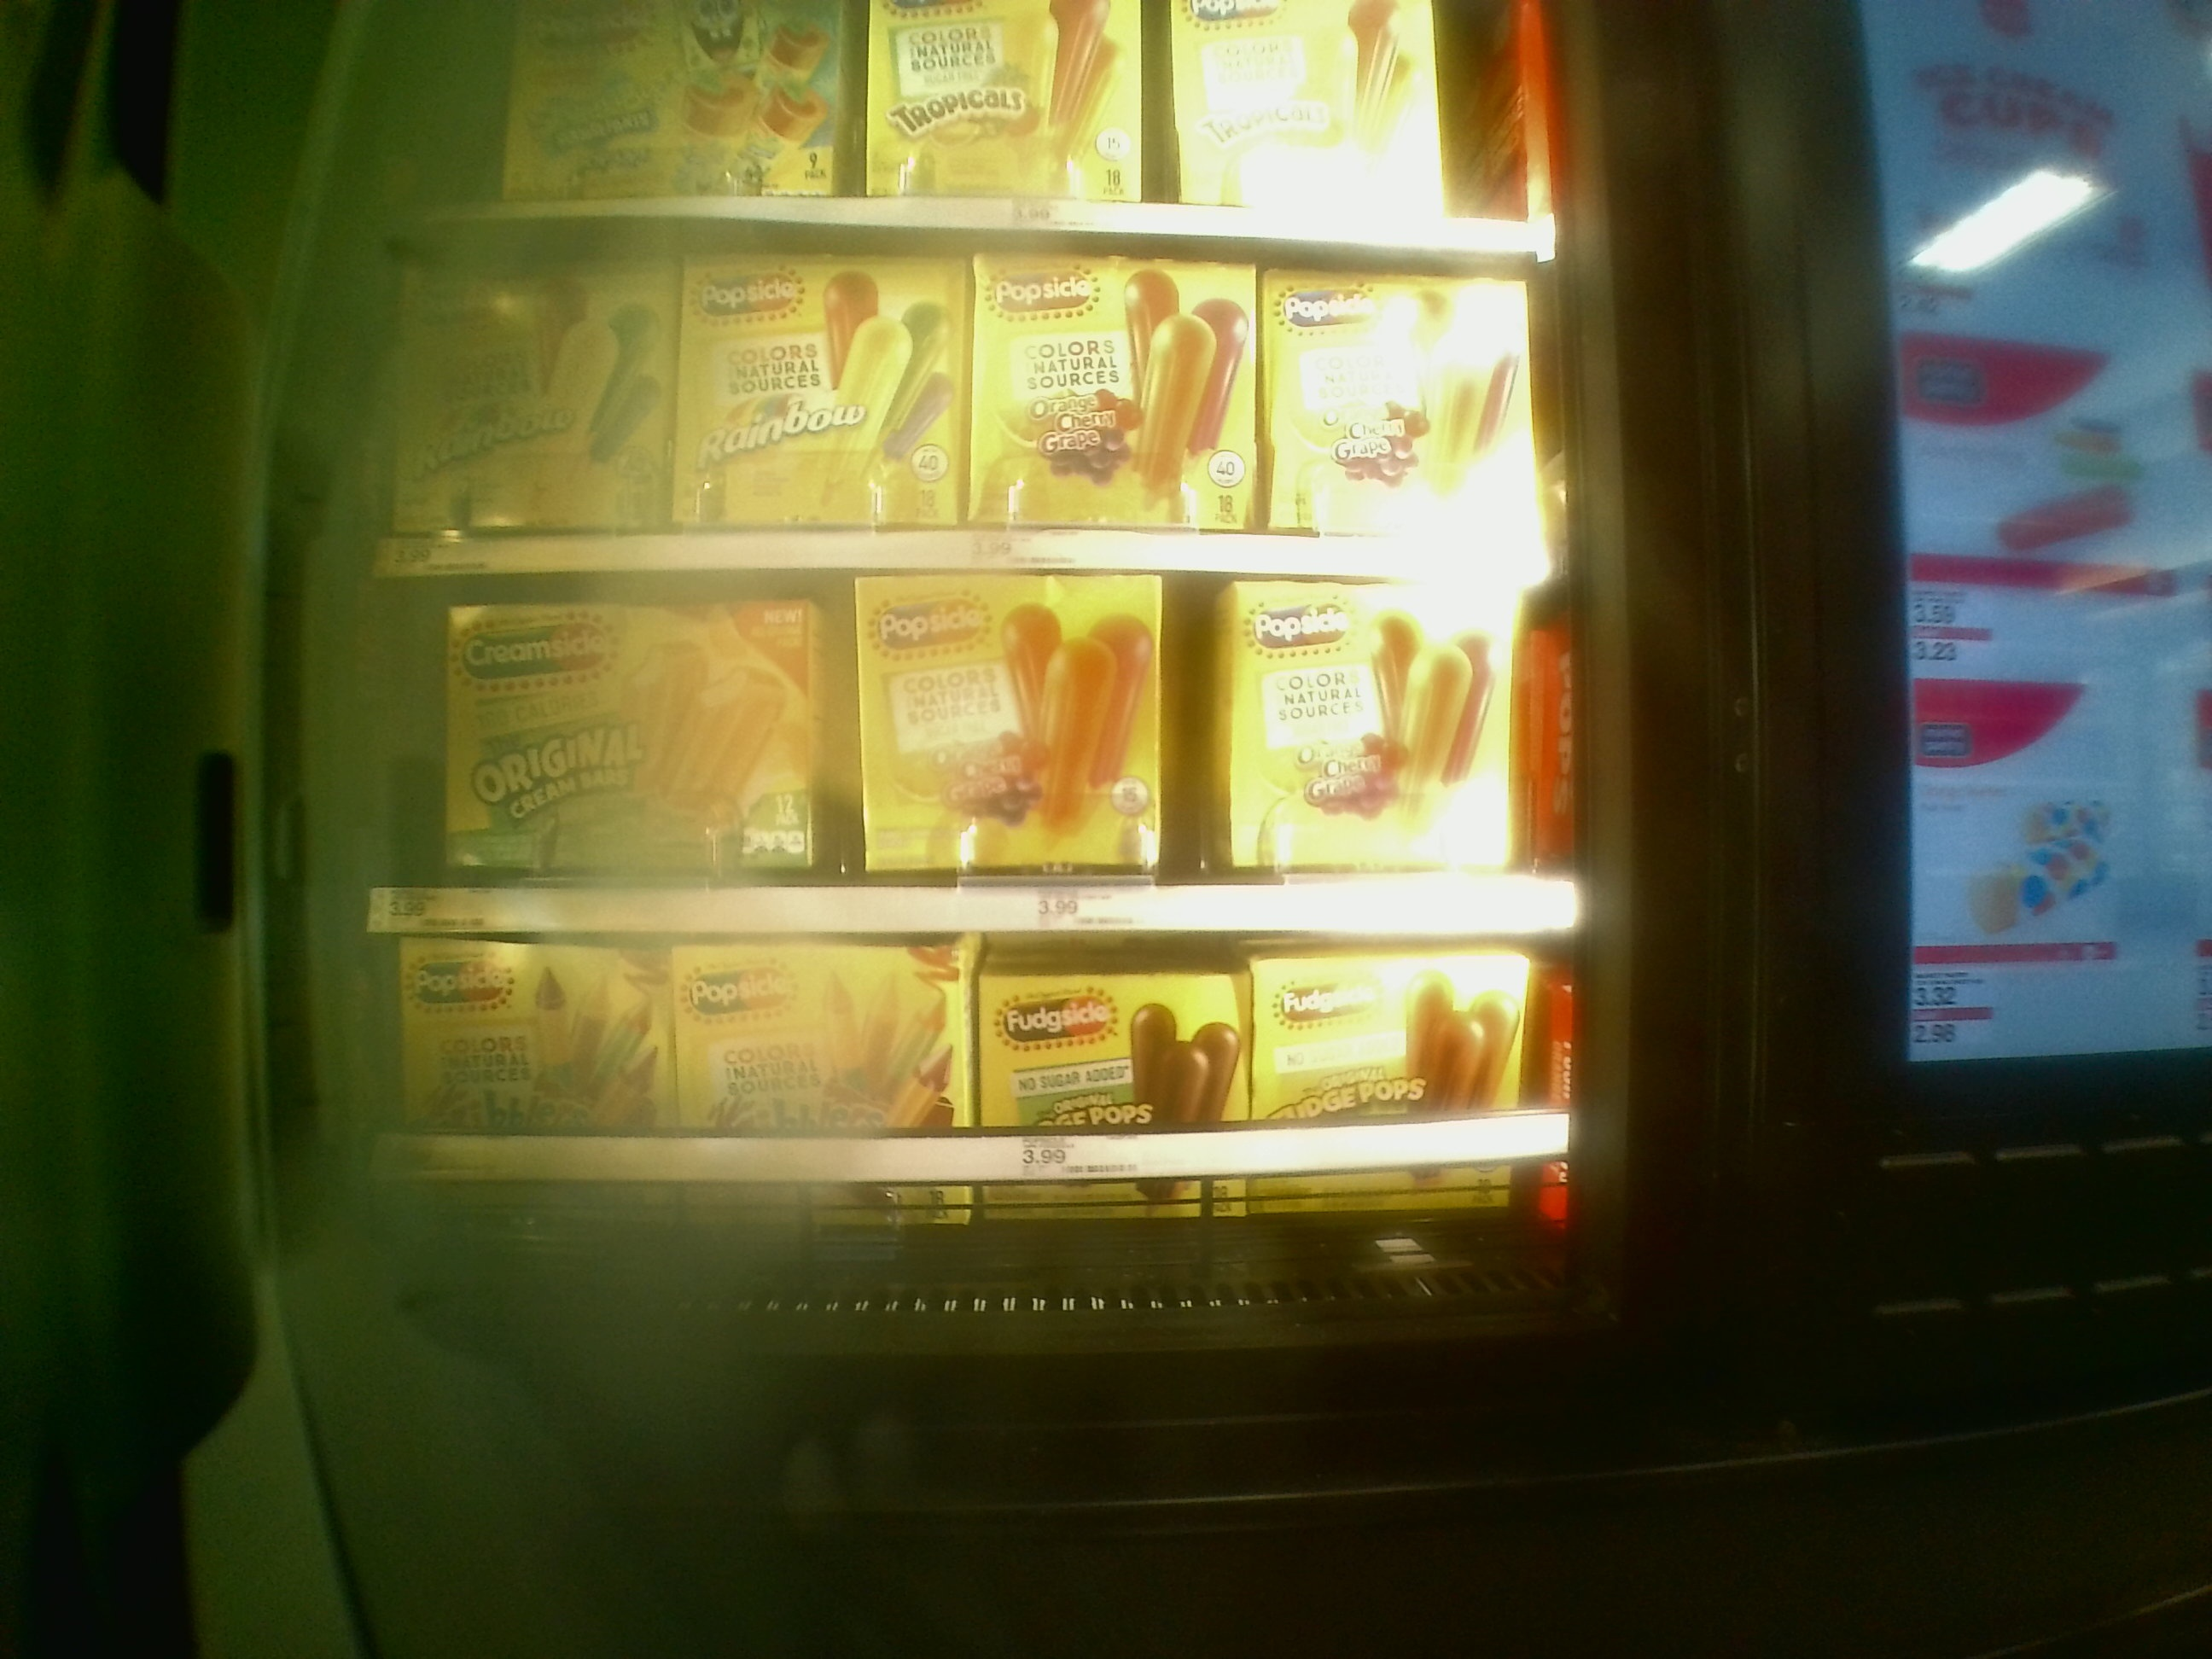shelf: (361, 932, 1576, 1298), (361, 575, 1581, 929)
